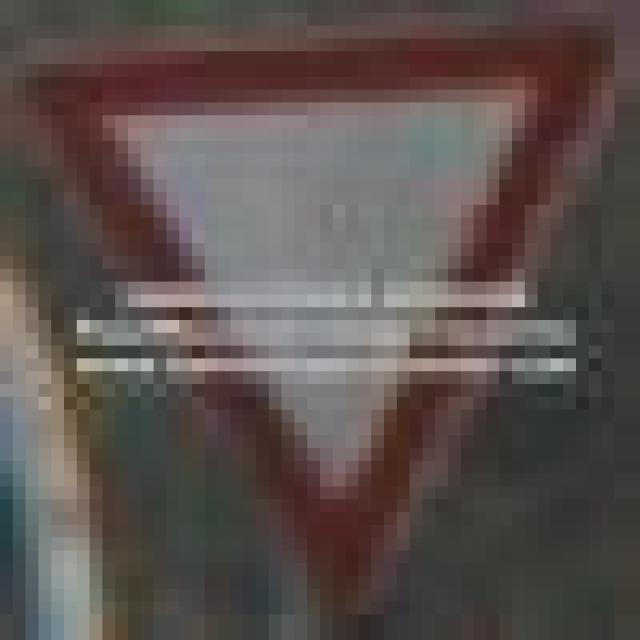gap_in_median: (0, 26, 627, 614)
